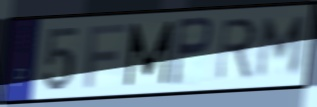5: (41, 24, 81, 93)
F: (82, 22, 129, 91)
M: (253, 14, 309, 81), (123, 19, 176, 89)
P: (169, 15, 215, 89)
R: (214, 15, 260, 84)
